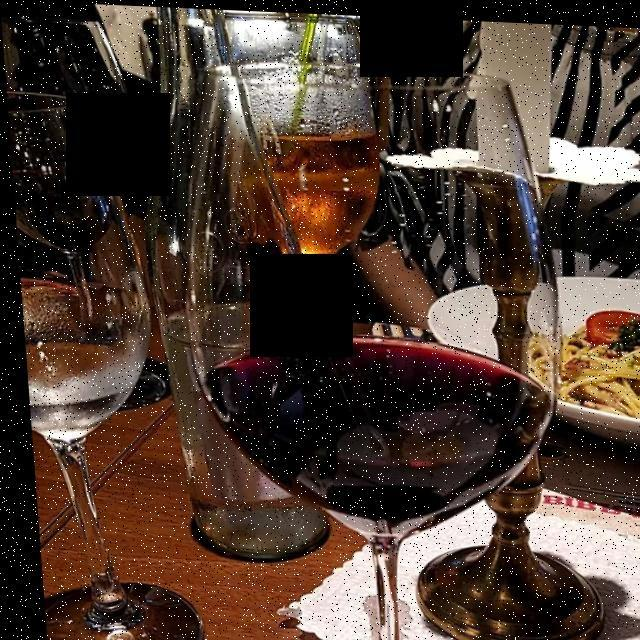wine: (195, 334, 539, 523)
